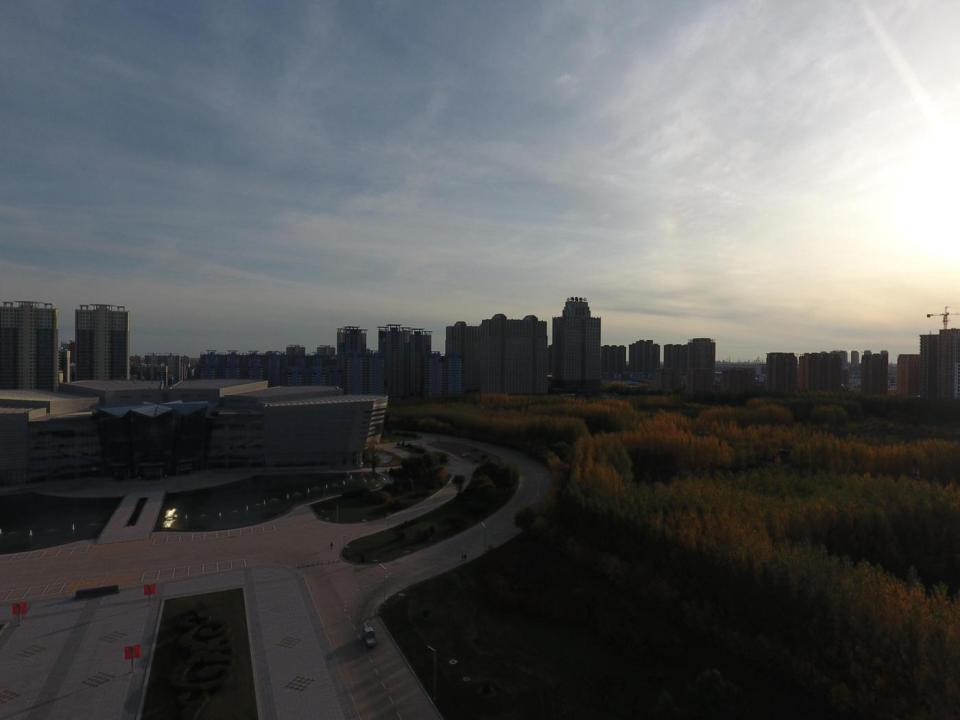car: (462, 452, 471, 457)
truck: (361, 627, 380, 648)
